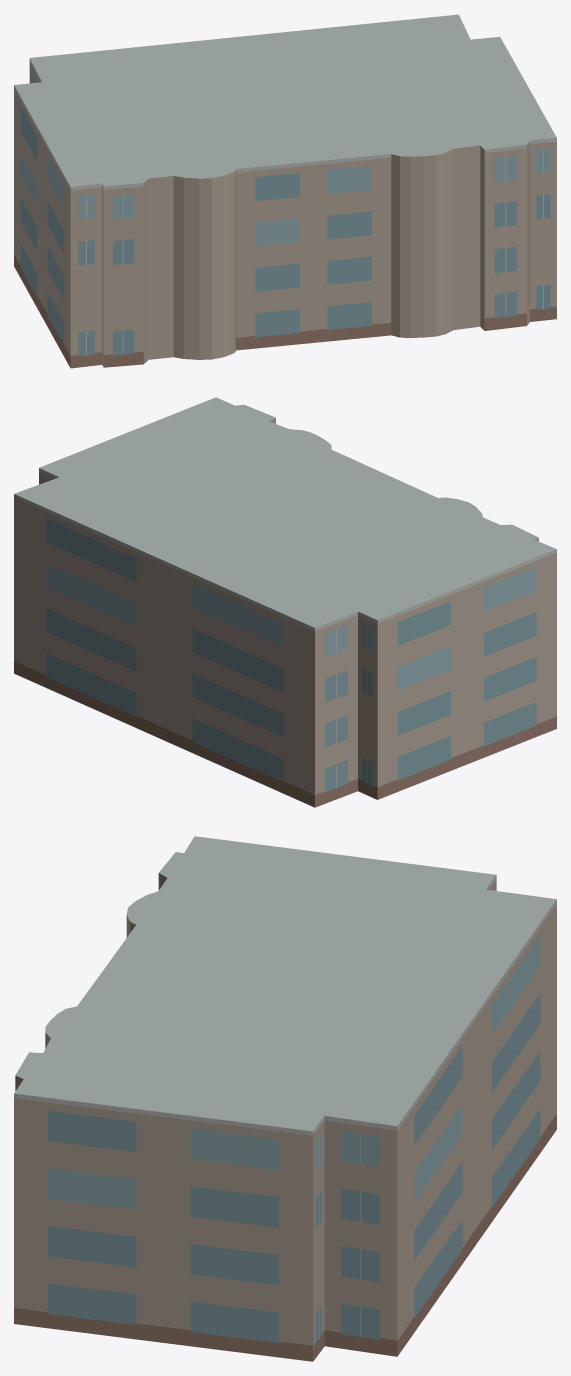
The model's file is survey-upis-32859682.glb.
3 views of the same model, one above another, from view 1: azimuth 30°, elevation 25°; view 2: azimuth 150°, elevation 25°; view 3: azimuth 270°, elevation 25° (orthographic). The views are drawn at different scales.
Visible parts, largest first — view 1: survey-upis-32859682.tmp; view 2: survey-upis-32859682.tmp; view 3: survey-upis-32859682.tmp.
Part boxes in pixels (<box>): survey-upis-32859682.tmp: <box>14,14,556,368</box>; survey-upis-32859682.tmp: <box>14,397,556,807</box>; survey-upis-32859682.tmp: <box>14,836,556,1361</box>.
Size of the model in its own units: 33.53 by 12.2 by 26.06.
